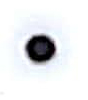cancer: (5, 16, 77, 83)
